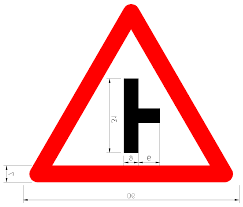Fork_road: (27, 3, 234, 183)
